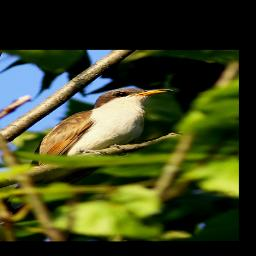Cuckoo: (0, 84, 179, 231)
